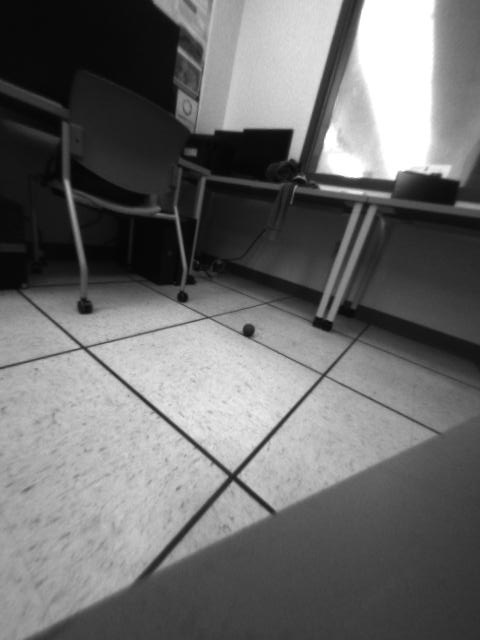dogtoy: (235, 317, 261, 343)
